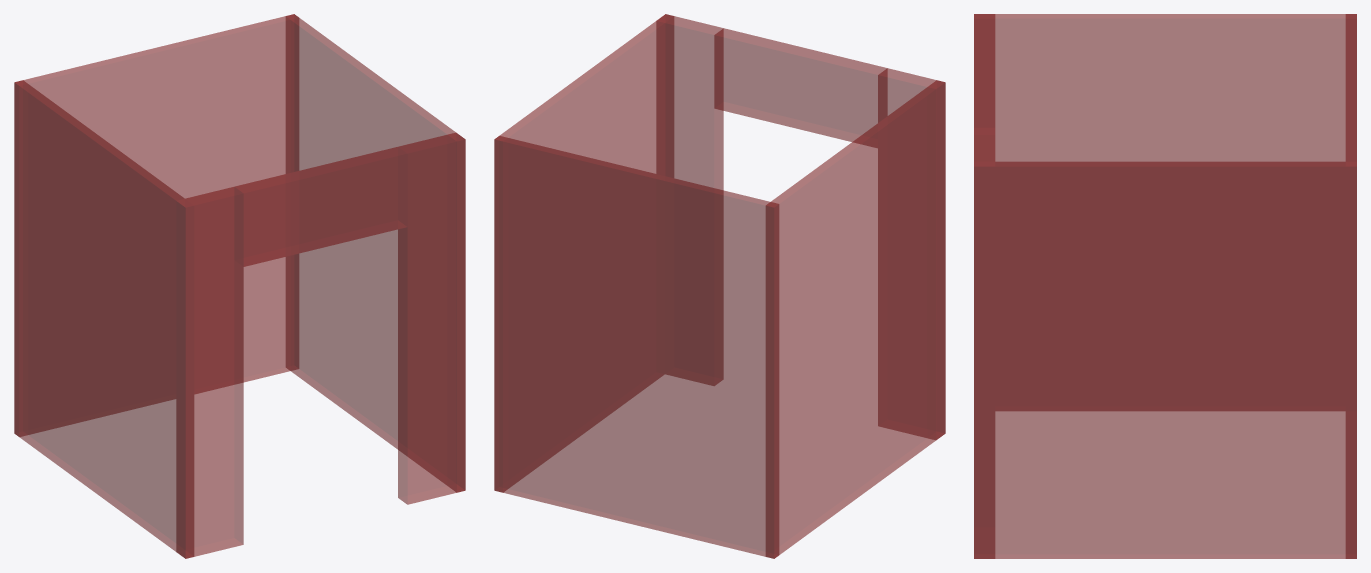
File: SM_Bld_Wall_Elevator_01_Collision.fbx
The picture shows the model from 3 angles, left to right: view 1: azimuth 30°, elevation 25°; view 2: azimuth 150°, elevation 25°; view 3: azimuth 270°, elevation 25°; orthographic projection. The views are drawn at different scales.
Visible parts, largest first — view 1: SM_Bld_Wall_Elevator_01_Collision; view 2: SM_Bld_Wall_Elevator_01_Collision; view 3: SM_Bld_Wall_Elevator_01_Collision.
Part boxes in pixels (x1,y1,x2,y2): SM_Bld_Wall_Elevator_01_Collision: [14, 14, 465, 558]; SM_Bld_Wall_Elevator_01_Collision: [494, 14, 945, 558]; SM_Bld_Wall_Elevator_01_Collision: [974, 14, 1356, 558].
Size of the model in its own units: 250 by 300 by 265.
